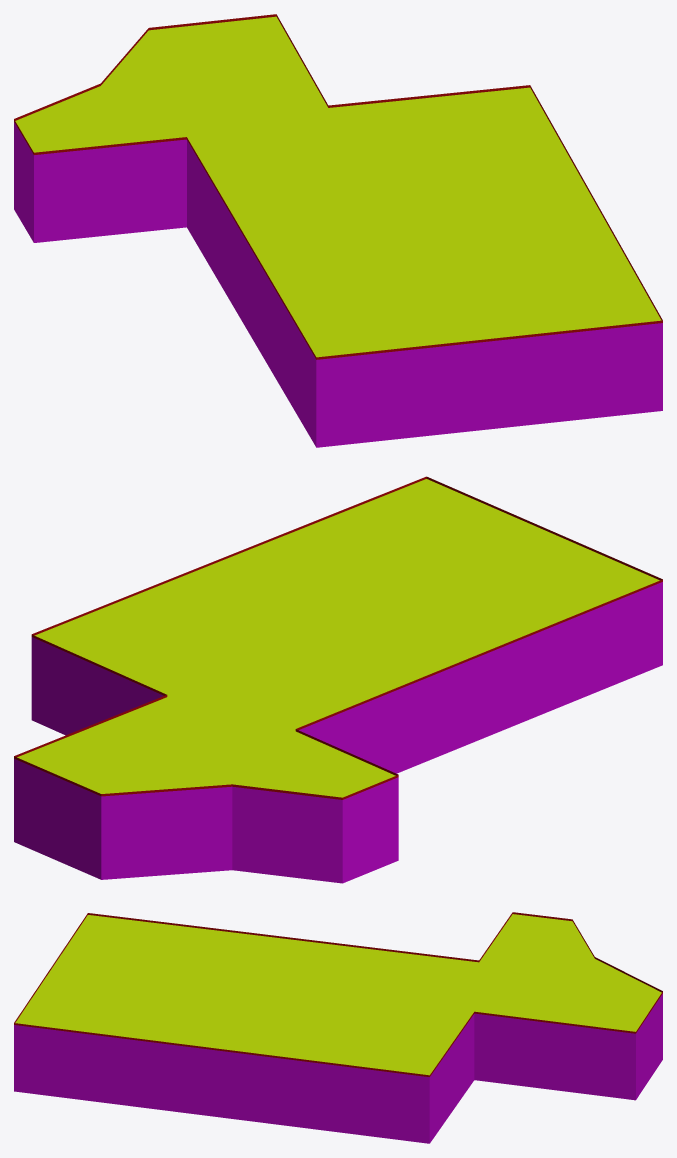
Rendered from rmc_3.glb.
3 views of the same model, one above another, from view 1: azimuth 30°, elevation 25°; view 2: azimuth 150°, elevation 25°; view 3: azimuth 270°, elevation 25° (orthographic). The views are drawn at different scales.
Visible parts, largest first — view 1: rmc_3; view 2: rmc_3; view 3: rmc_3.
Part boxes in pixels (<box>): rmc_3: <box>14,14,662,447</box>; rmc_3: <box>14,476,662,883</box>; rmc_3: <box>14,912,662,1143</box>.
Size of the model in its own units: 65.27 by 12.77 by 110.
